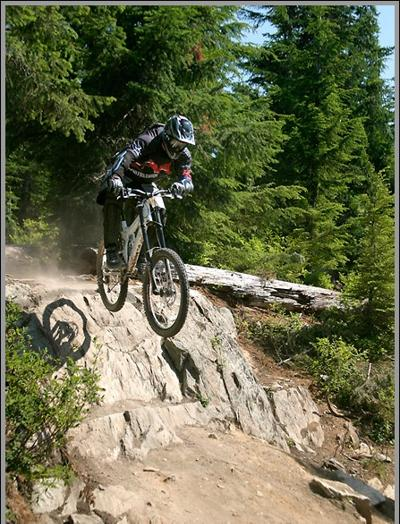person: (101, 114, 195, 277)
